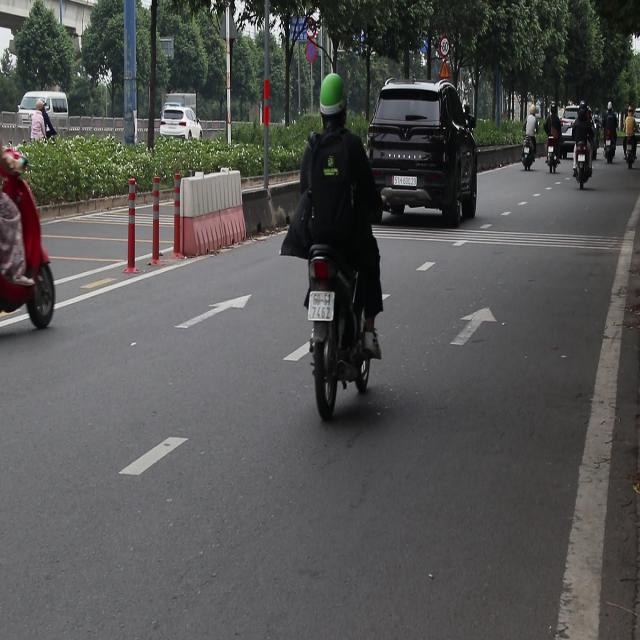car: (367, 80, 481, 226), (19, 74, 78, 136), (559, 99, 595, 151), (161, 111, 205, 140)
motorbike: (304, 252, 390, 412), (0, 132, 57, 340), (566, 136, 588, 202), (625, 131, 638, 184), (520, 138, 535, 181), (546, 137, 558, 190), (604, 121, 612, 162)
